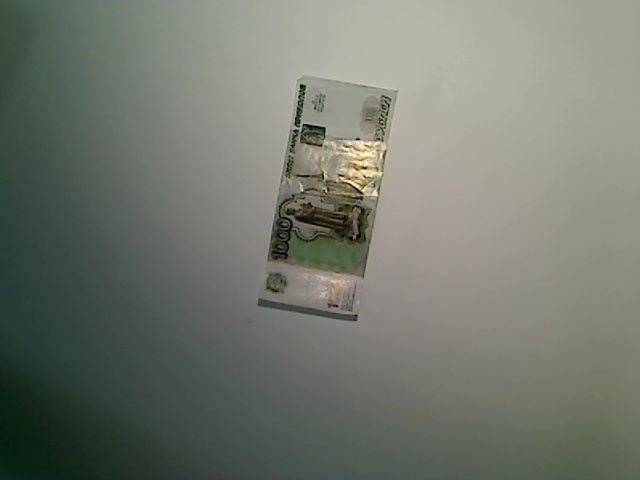banknotes: (257, 74, 403, 319)
